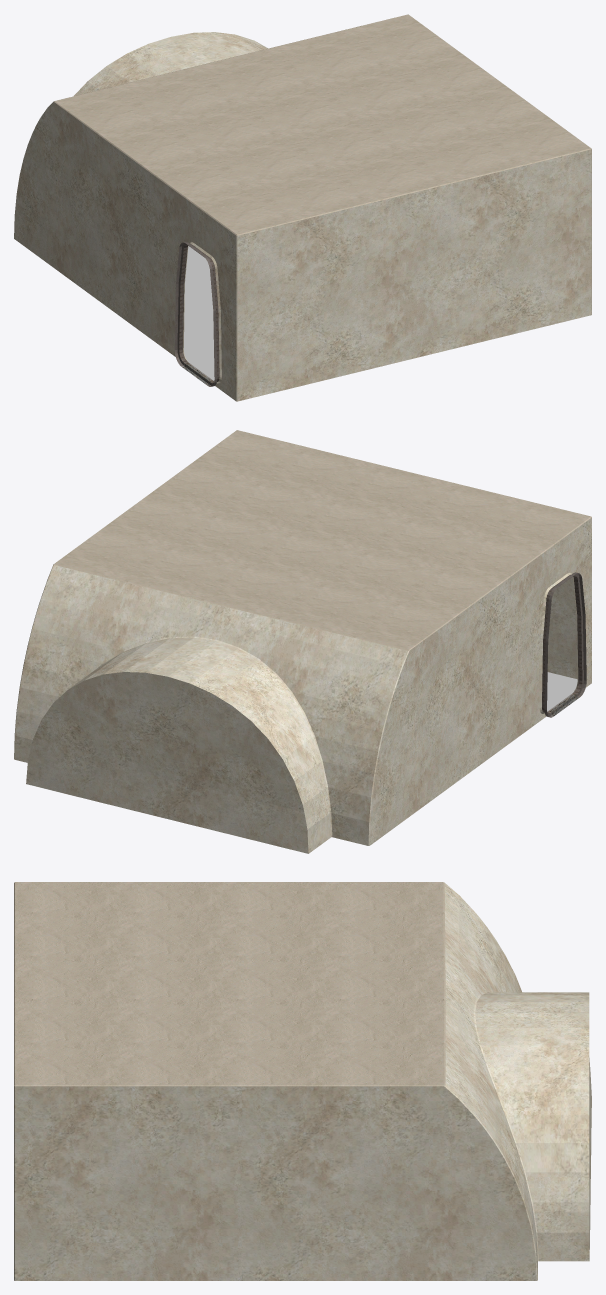
File: thm_tato_house_m_s01_fp1_r8_bedroom3_mesh_r8.fbx
3 views of the same model, one above another, from view 1: azimuth 30°, elevation 25°; view 2: azimuth 150°, elevation 25°; view 3: azimuth 270°, elevation 25° (orthographic). The views are drawn at different scales.
Parts seen in each view (by area): view 1: mesh_node; view 2: mesh_node; view 3: mesh_node.
Part boxes in pixels (x1,y1,x2,y2): mesh_node: [14, 14, 591, 401]; mesh_node: [14, 430, 591, 853]; mesh_node: [14, 882, 591, 1280].
Size of the model in its own units: 9.6 by 4.2 by 11.25.
